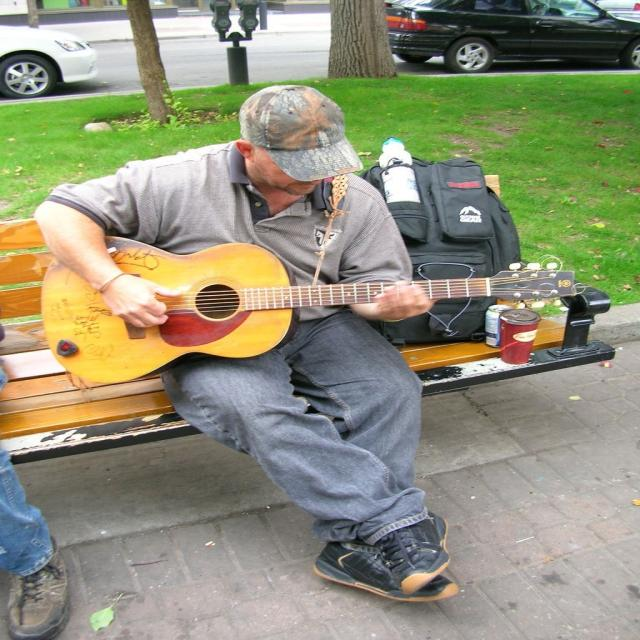guitar: (40, 238, 577, 388)
